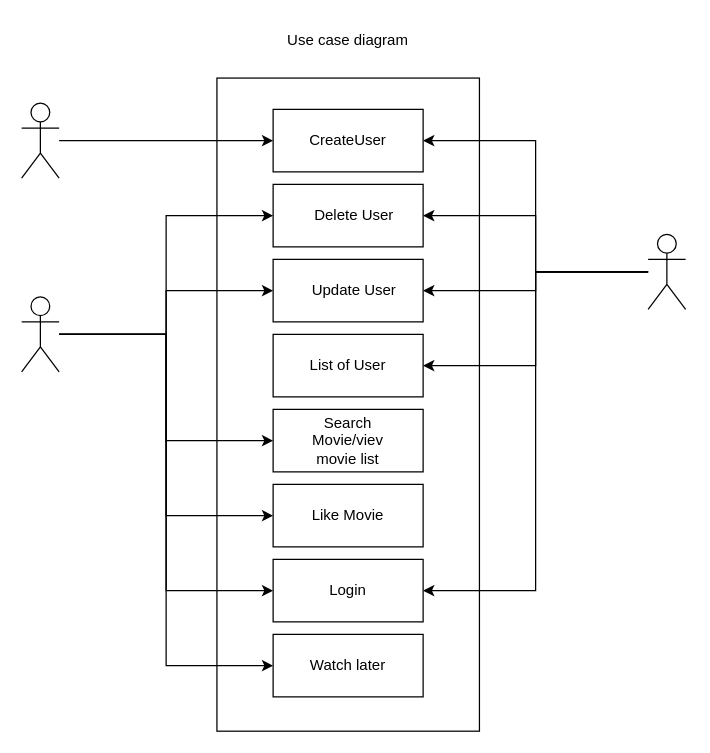
Image size: 710x753. Some labels were removed from this diagram. Here are the shapes that lost their labels. From the top down, the box of each, then its label:
(20, 102, 59, 178): Gæst
(647, 233, 686, 309): Admin
(20, 296, 59, 372): User
